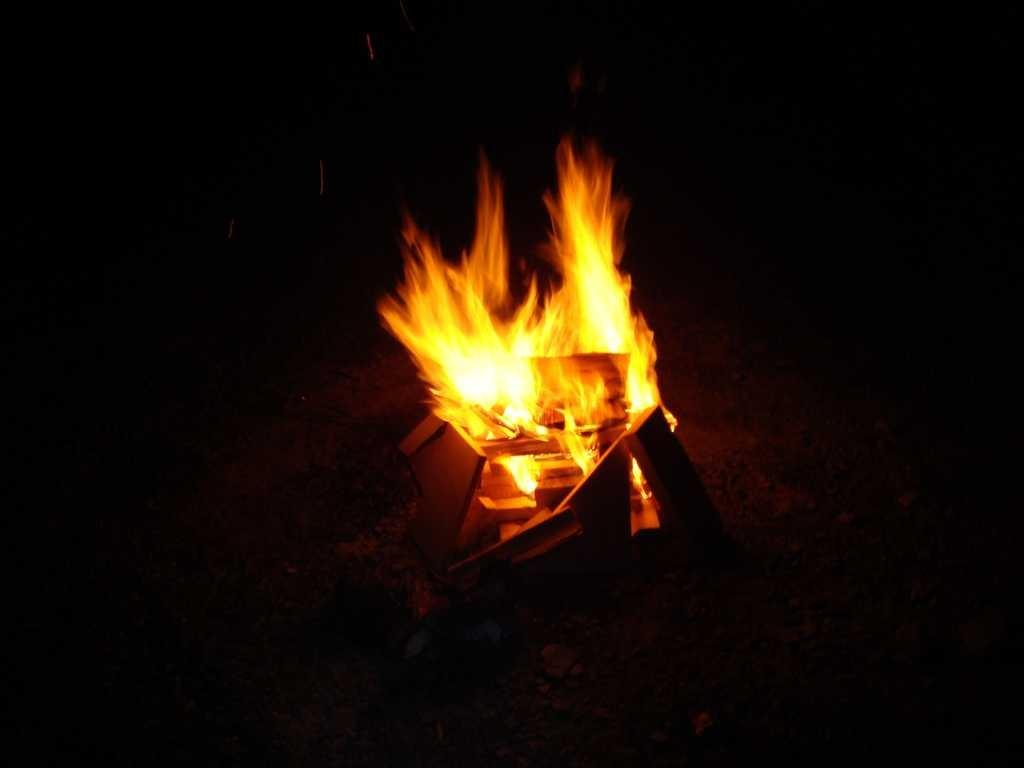fire: (421, 154, 647, 534)
